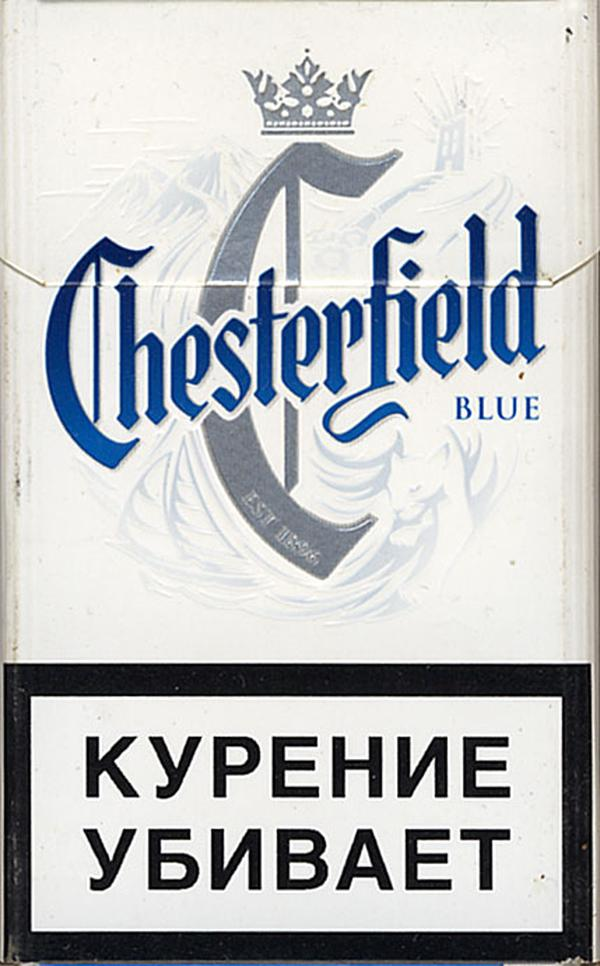chesterfield_blue: (6, 3, 593, 960)
